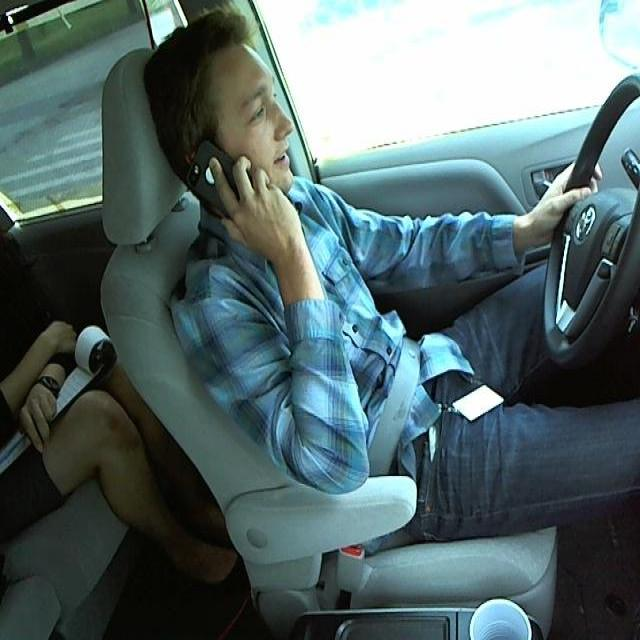using_phone: (116, 12, 350, 279)
